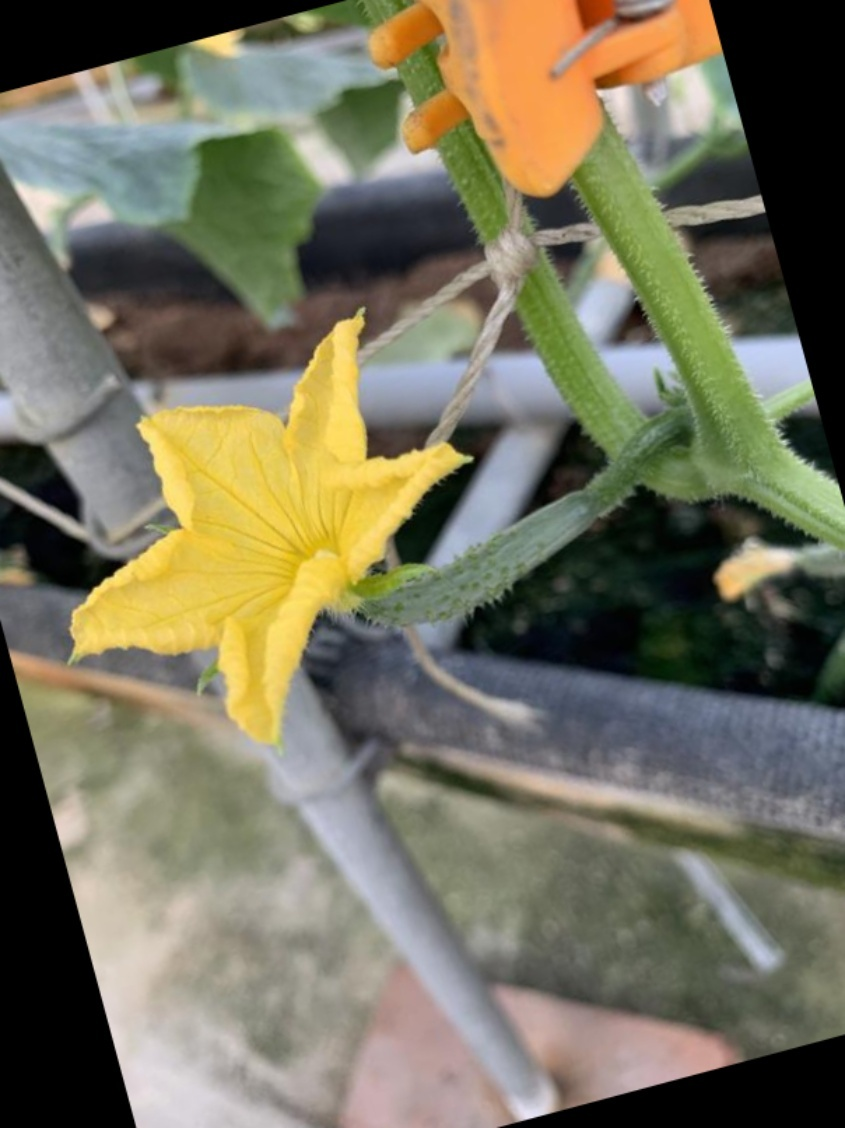flowering: (74, 289, 620, 760)
